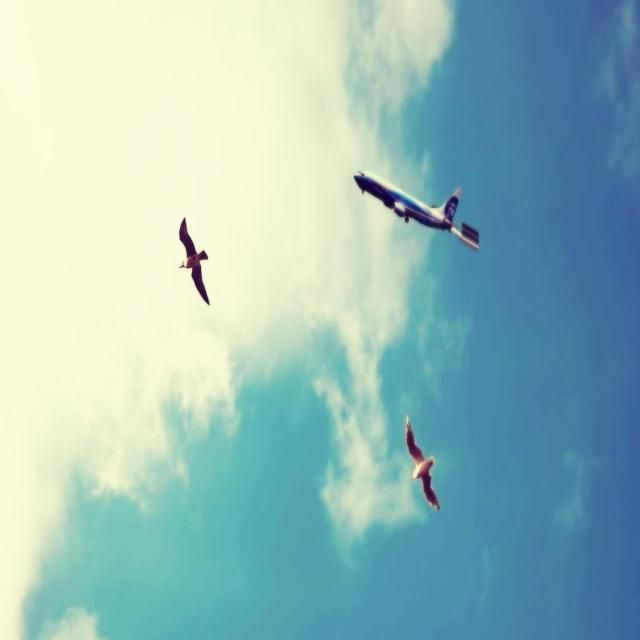airplane: (353, 169, 479, 252)
